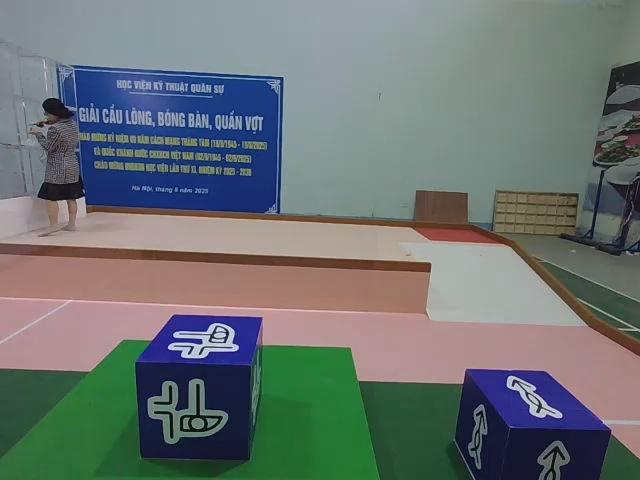R2 Real Blue: (137, 313, 264, 463), (457, 370, 612, 480)
